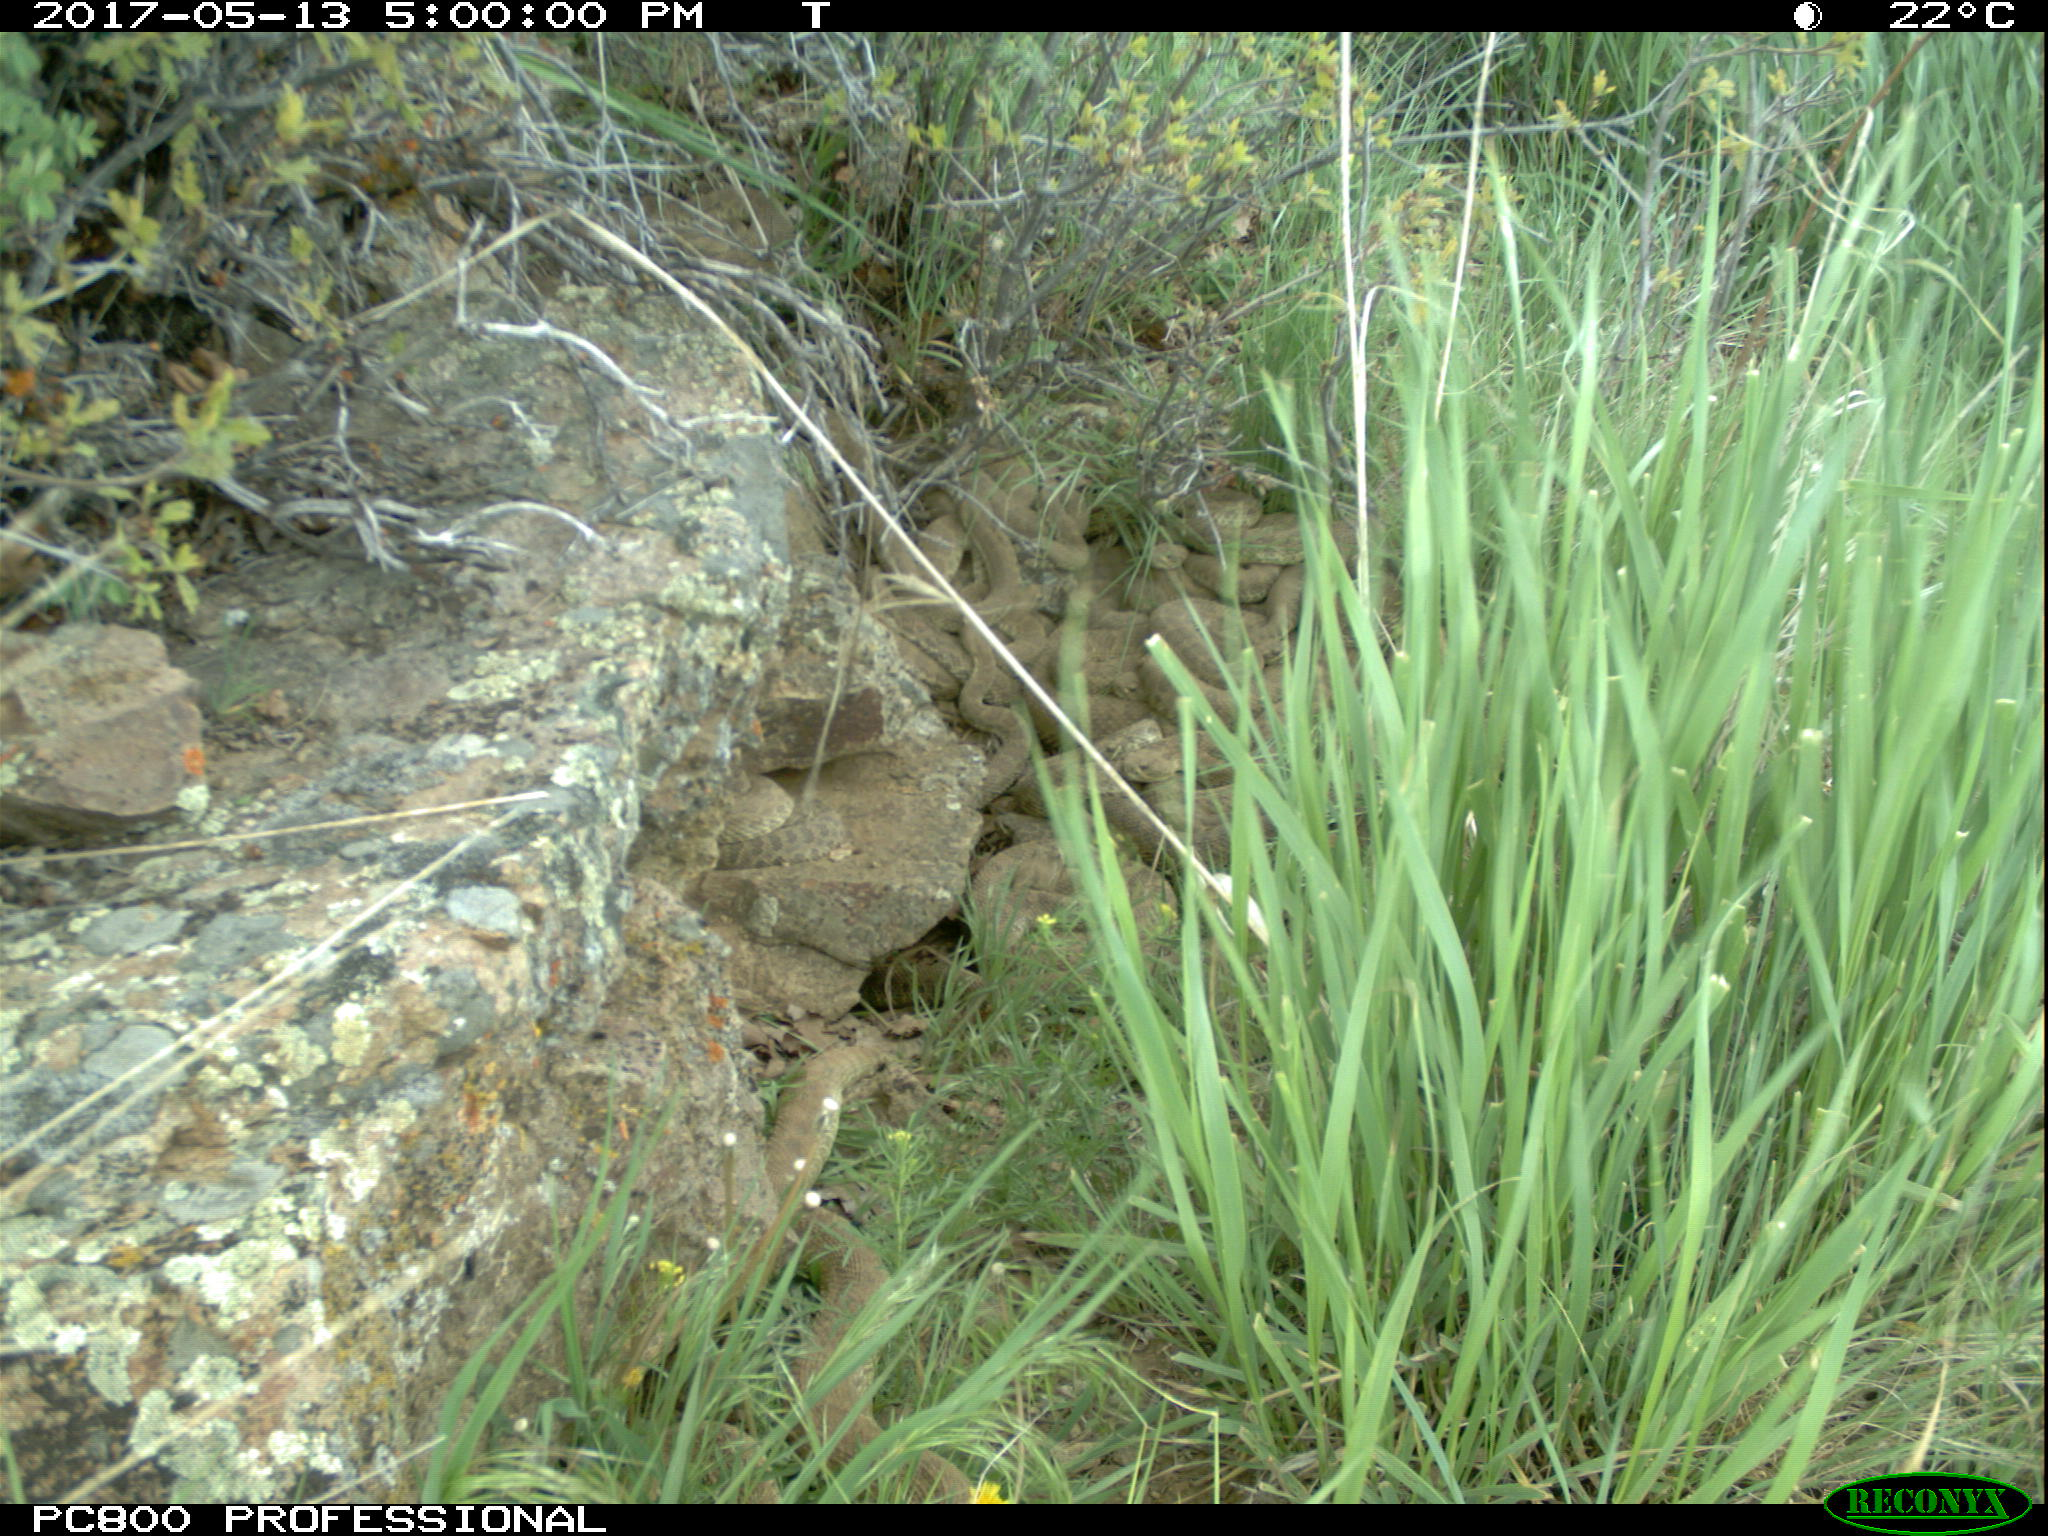snake: (801, 1225, 972, 1504), (1047, 697, 1255, 863), (963, 833, 1177, 983), (947, 487, 1030, 812), (761, 1042, 877, 1262), (1026, 529, 1147, 694), (1143, 490, 1314, 595), (705, 779, 848, 871), (1150, 597, 1287, 692)
